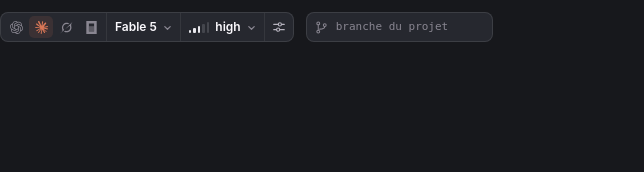
Scenario: cumule la même branche dans plusieurs dépôts
Type "25008" into the dropdown named "Branche cible" at (409, 27), box top-left (334, 18), bottom-right (484, 36)
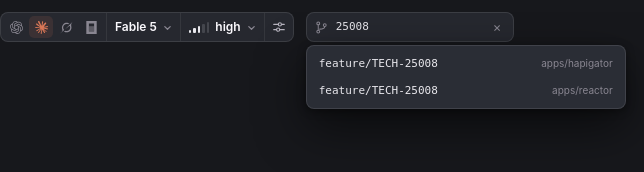
Click the option "feature/TECH-25008 apps/hapigator" at (378, 64), box top-left (319, 57), bottom-right (613, 70)
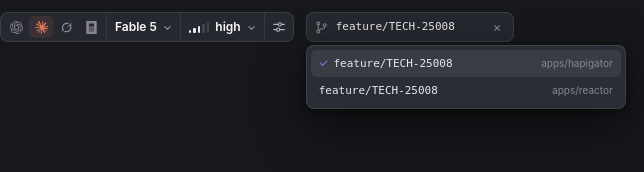
Click the option "feature/TECH-25008 apps/reactor" at (378, 91), box top-left (319, 84), bottom-right (613, 97)
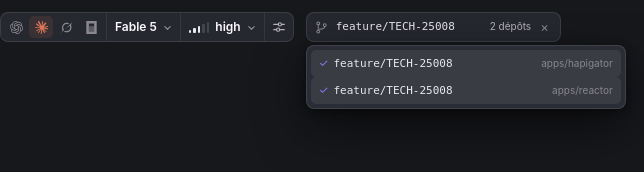
Result: the text "2 dépôts" is shown at top-left (490, 19), bottom-right (531, 35)
